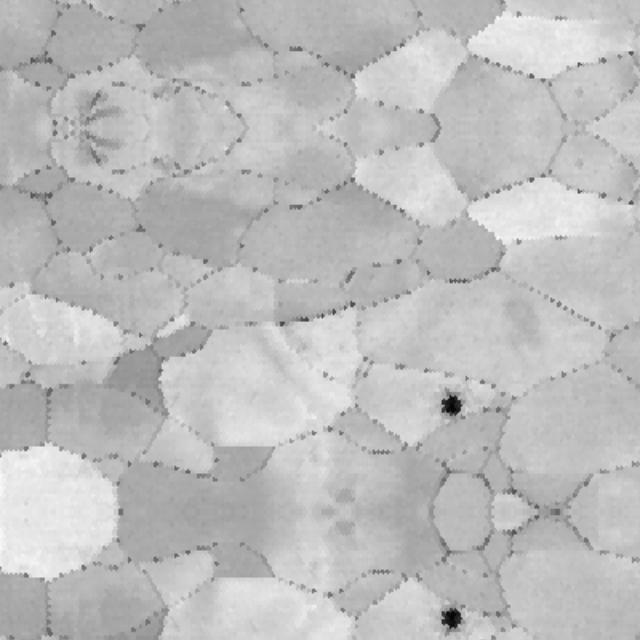good_void: (429, 373, 474, 427), (429, 597, 474, 640), (318, 365, 337, 388)
